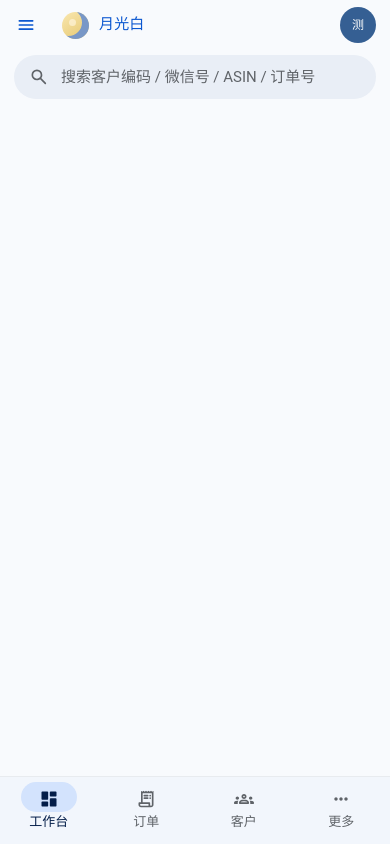
Scenario: StaffShell mobile drawer › opens drawer when menu button clicked
Click the button named "打开导航菜单". click: (26, 25)
box: [6, 5, 46, 45]
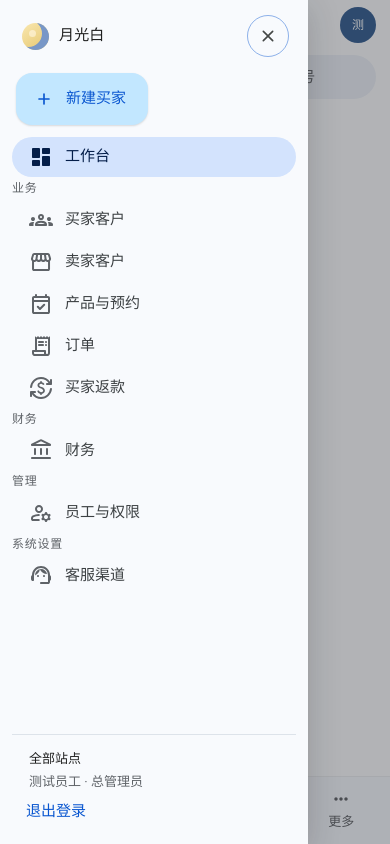
Result: the dialog named "员工导航菜单" is shown
